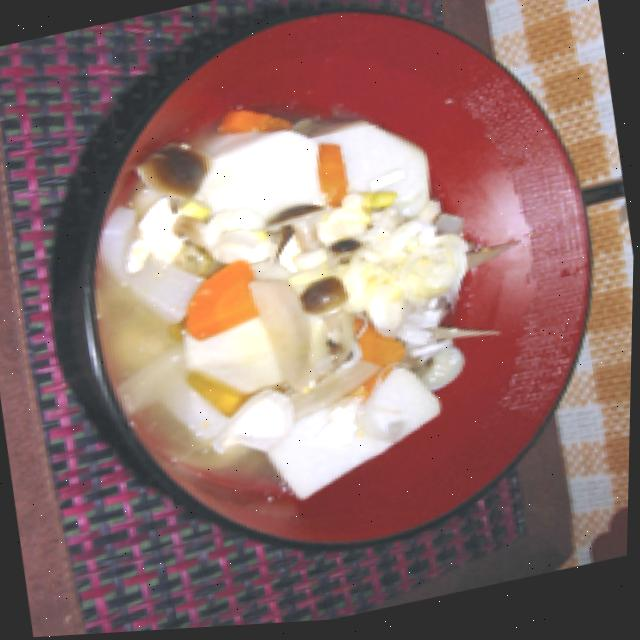蔬菜料理: (40, 0, 640, 623)
